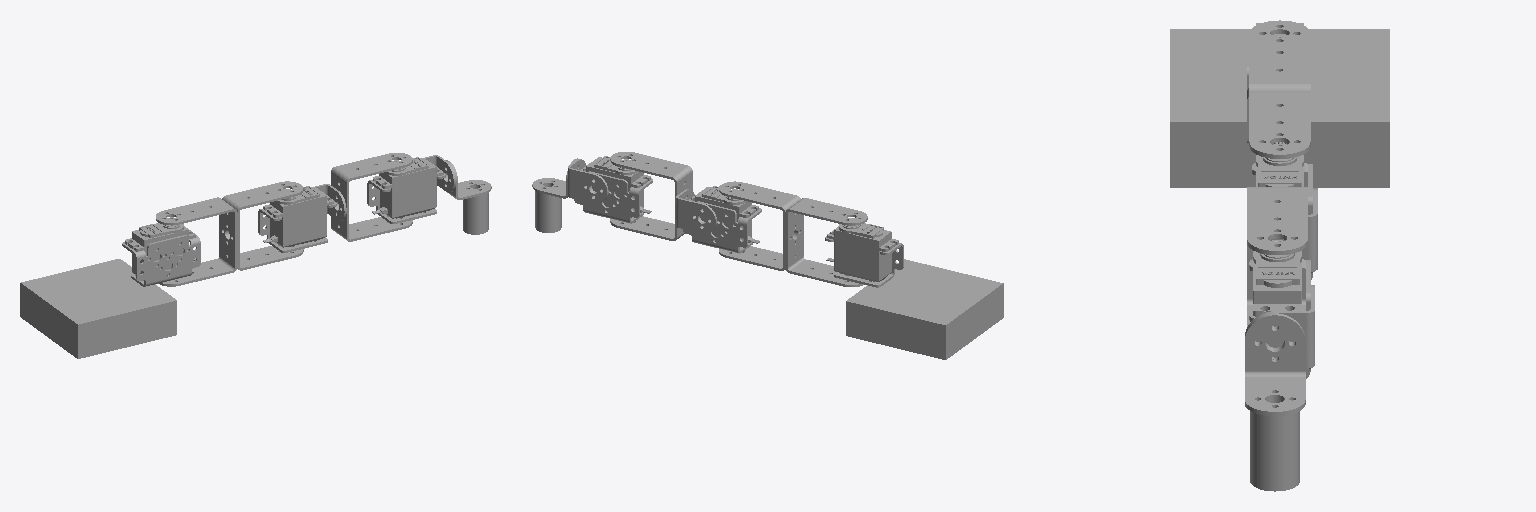
URDF robot description (il_three_dof_servo_arm_urdf_compatible):
<?xml version="1.0" ?>
<!-- =================================================================================== -->
<!-- |    This document was autogenerated by xacro from /home/ifaz/ros_proj_noetic/Imitation_learn_3dof/src/il_three_dof_servo_arm_urdf_compatible_description/urdf/il_three_dof_servo_arm_urdf_compatible.xacro | -->
<!-- |    EDITING THIS FILE BY HAND IS NOT RECOMMENDED                                 | -->
<!-- =================================================================================== -->
<robot name="il_three_dof_servo_arm_urdf_compatible">

    <material name="silver">
        <color rgba="0.700 0.700 0.700 1.000" />
    </material>
    <transmission name="joint_1_tran">
        <type>transmission_interface/SimpleTransmission</type>
        <joint name="joint_1">
            <hardwareInterface>hardware_interface/PositionJointInterface</hardwareInterface>
        </joint>
        <actuator name="joint_1_actr">
            <hardwareInterface>hardware_interface/PositionJointInterface</hardwareInterface>
            <mechanicalReduction>1</mechanicalReduction>
        </actuator>
    </transmission>
    <transmission name="joint_2_tran">
        <type>transmission_interface/SimpleTransmission</type>
        <joint name="joint_2">
            <hardwareInterface>hardware_interface/PositionJointInterface</hardwareInterface>
        </joint>
        <actuator name="joint_2_actr">
            <hardwareInterface>hardware_interface/PositionJointInterface</hardwareInterface>
            <mechanicalReduction>1</mechanicalReduction>
        </actuator>
    </transmission>
    <transmission name="joint_3_tran">
        <type>transmission_interface/SimpleTransmission</type>
        <joint name="joint_3">
            <hardwareInterface>hardware_interface/PositionJointInterface</hardwareInterface>
        </joint>
        <actuator name="joint_3_actr">
            <hardwareInterface>hardware_interface/PositionJointInterface</hardwareInterface>
            <mechanicalReduction>1</mechanicalReduction>
        </actuator>
    </transmission>
    <!--<gazebo>
        <plugin filename="libgazebo_ros_control.so" name="control" />
        <plugin name="gazebo_ros_control" filename="libgazebo_ros_control.so">
            <robotNamespace>/</robotNamespace>
        </plugin>
    </gazebo> -->
    <gazebo>
        <plugin filename="libgazebo_ros_control.so" name="gazebo_ros_control">
        </plugin>
    </gazebo>
    
    
        <!-- Fix the robot to the world-->
    <link name="world" />
    <joint name="fixed" type="fixed">
        <parent link="world" />
        <child link="base_link" />
    </joint>
    <gazebo reference="base_link">
        <material>Gazebo/Silver</material>
        <mu1>0.2</mu1>
        <mu2>0.2</mu2>
        <selfCollide>true</selfCollide>
        <gravity>true</gravity>
    </gazebo>
    <gazebo reference="link_1_1_1">
        <material>Gazebo/Silver</material>
        <mu1>0.02</mu1>
        <mu2>0.02</mu2>
        <selfCollide>true</selfCollide>
    </gazebo>
    <gazebo reference="link_1_2_1">
        <material>Gazebo/Black</material>
        <mu1>0.2</mu1>
        <mu2>0.2</mu2>
        <selfCollide>true</selfCollide>
    </gazebo>
    <gazebo reference="link_1_3_1">
        <material>Gazebo/Black</material>
        <mu1>0.2</mu1>
        <mu2>0.2</mu2>
        <selfCollide>true</selfCollide>
    </gazebo>
    <gazebo reference="link_2_1_1">
        <material>Gazebo/Silver</material>
        <mu1>0.2</mu1>
        <mu2>0.2</mu2>
        <selfCollide>true</selfCollide>
    </gazebo>
    <gazebo reference="link_2_2_1">
        <material>Gazebo/Silver</material>
        <mu1>0.2</mu1>
        <mu2>0.2</mu2>
        <selfCollide>true</selfCollide>
    </gazebo>
    <gazebo reference="link_2_3_1">
        <material>Gazebo/Black</material>
        <mu1>0.2</mu1>
        <mu2>0.2</mu2>
        <selfCollide>true</selfCollide>
    </gazebo>
    <gazebo reference="link_3_1_1">
        <material>Gazebo/Silver</material>
        <mu1>0.2</mu1>
        <mu2>0.2</mu2>
        <selfCollide>true</selfCollide>
    </gazebo>
    <gazebo reference="link_3_2_1">
        <material>Gazebo/Silver</material>
        <mu1>0.2</mu1>
        <mu2>0.2</mu2>
        <selfCollide>true</selfCollide>
    </gazebo>
    <gazebo reference="link_4_1_1">
        <material>Gazebo/Black</material>
        <mu1>0.2</mu1>
        <mu2>0.2</mu2>
        <selfCollide>true</selfCollide>
    </gazebo>
    <gazebo reference="ee_1">
        <material>Gazebo/Black</material>
        <mu1>0.2</mu1>
        <mu2>0.2</mu2>
        <selfCollide>true</selfCollide>
    </gazebo>
    <link name="base_link">
        <inertial>
            <origin rpy="0 0 0" xyz="0.0 0.0 0.015" />
            <mass value="1.907549999999999" />
            <inertia ixx="0.001431" ixy="0.0" ixz="0.0" iyy="0.001431" iyz="0.0" izz="0.002575" />
        </inertial>
        <visual>
            <origin rpy="0 0 0" xyz="0 0 0" />
            <geometry>
                <mesh filename="package://il_three_dof_servo_arm_urdf_compatible_description/meshes/base_link.stl" scale="0.001 0.001 0.001" />
            </geometry>
            <material name="silver" />
        </visual>
        <collision>
            <origin rpy="0 0 0" xyz="0 0 0" />
            <geometry>
                <mesh filename="package://il_three_dof_servo_arm_urdf_compatible_description/meshes/base_link.stl" scale="0.001 0.001 0.001" />
            </geometry>
        </collision>
    </link>
    <link name="link_1_1_1">
        <inertial>
            <origin rpy="0 0 0" xyz="0.010722263946288085 -0.0010298469529679576 0.02155785221673978" />
            <mass value="0.10446533796903502" />
            <inertia ixx="1.9e-05" ixy="-0.0" ixz="-0.0" iyy="3.1e-05" iyz="-0.0" izz="2.1e-05" />
        </inertial>
        <visual>
            <origin rpy="0 0 0" xyz="-0.045 -0.0 -0.03" />
            <geometry>
                <mesh filename="package://il_three_dof_servo_arm_urdf_compatible_description/meshes/link_1_1_1.stl" scale="0.001 0.001 0.001" />
            </geometry>
            <material name="silver" />
        </visual>
        <collision>
            <origin rpy="0 0 0" xyz="-0.045 -0.0 -0.03" />
            <geometry>
                <mesh filename="package://il_three_dof_servo_arm_urdf_compatible_description/meshes/link_1_1_1.stl" scale="0.001 0.001 0.001" />
            </geometry>
        </collision>
    </link>
    <link name="link_1_2_1">
        <inertial>
            <origin rpy="0 0 0" xyz="0.03039981873219752 -1.3654025610418787e-14 -0.02549999999998632" />
            <mass value="0.022671389167279683" />
            <inertia ixx="1.4e-05" ixy="-0.0" ixz="-0.0" iyy="2.2e-05" iyz="0.0" izz="1e-05" />
        </inertial>
        <visual>
            <origin rpy="0 0 0" xyz="-0.06575 -0.0 -0.0776" />
            <geometry>
                <mesh filename="package://il_three_dof_servo_arm_urdf_compatible_description/meshes/link_1_2_1.stl" scale="0.001 0.001 0.001" />
            </geometry>
            <material name="silver" />
        </visual>
        <collision>
            <origin rpy="0 0 0" xyz="-0.06575 -0.0 -0.0776" />
            <geometry>
                <mesh filename="package://il_three_dof_servo_arm_urdf_compatible_description/meshes/link_1_2_1.stl" scale="0.001 0.001 0.001" />
            </geometry>
        </collision>
    </link>
    <link name="link_1_3_1">
        <inertial>
            <origin rpy="0 0 0" xyz="0.022100181267802443 -1.3645906135543732e-14 -1.3704315460216776e-14" />
            <mass value="0.022671389167279683" />
            <inertia ixx="1.4e-05" ixy="0.0" ixz="-0.0" iyy="2.2e-05" iyz="-0.0" izz="1e-05" />
        </inertial>
        <visual>
            <origin rpy="0 0 0" xyz="-0.11825 -0.0 -0.0521" />
            <geometry>
                <mesh filename="package://il_three_dof_servo_arm_urdf_compatible_description/meshes/link_1_3_1.stl" scale="0.001 0.001 0.001" />
            </geometry>
            <material name="silver" />
        </visual>
        <collision>
            <origin rpy="0 0 0" xyz="-0.11825 -0.0 -0.0521" />
            <geometry>
                <mesh filename="package://il_three_dof_servo_arm_urdf_compatible_description/meshes/link_1_3_1.stl" scale="0.001 0.001 0.001" />
            </geometry>
        </collision>
    </link>
    <link name="link_2_1_1">
        <inertial>
            <origin rpy="0 0 0" xyz="0.010027736053711822 0.001029846952968002 -0.02604214778326025" />
            <mass value="0.10446533796903502" />
            <inertia ixx="1.9e-05" ixy="-0.0" ixz="0.0" iyy="3.1e-05" iyz="0.0" izz="2.1e-05" />
        </inertial>
        <visual>
            <origin rpy="0 0 0" xyz="-0.17075 -0.0 -0.0776" />
            <geometry>
                <mesh filename="package://il_three_dof_servo_arm_urdf_compatible_description/meshes/link_2_1_1.stl" scale="0.001 0.001 0.001" />
            </geometry>
            <material name="silver" />
        </visual>
        <collision>
            <origin rpy="0 0 0" xyz="-0.17075 -0.0 -0.0776" />
            <geometry>
                <mesh filename="package://il_three_dof_servo_arm_urdf_compatible_description/meshes/link_2_1_1.stl" scale="0.001 0.001 0.001" />
            </geometry>
        </collision>
    </link>
    <link name="link_2_2_1">
        <inertial>
            <origin rpy="0 0 0" xyz="0.014291543311493432 -0.004352329737747492 -1.9761969838327786e-14" />
            <mass value="0.007218982086139781" />
            <inertia ixx="1e-06" ixy="0.0" ixz="-0.0" iyy="1e-06" iyz="0.0" izz="1e-06" />
        </inertial>
        <visual>
            <origin rpy="0 0 0" xyz="-0.1915 -0.0135 -0.0545" />
            <geometry>
                <mesh filename="package://il_three_dof_servo_arm_urdf_compatible_description/meshes/link_2_2_1.stl" scale="0.001 0.001 0.001" />
            </geometry>
            <material name="silver" />
        </visual>
        <collision>
            <origin rpy="0 0 0" xyz="-0.1915 -0.0135 -0.0545" />
            <geometry>
                <mesh filename="package://il_three_dof_servo_arm_urdf_compatible_description/meshes/link_2_2_1.stl" scale="0.001 0.001 0.001" />
            </geometry>
        </collision>
    </link>
    <link name="link_2_3_1">
        <inertial>
            <origin rpy="0 0 0" xyz="0.02210018126780225 -1.3647720106813033e-14 -1.3739009929736312e-14" />
            <mass value="0.022671389167279683" />
            <inertia ixx="1.4e-05" ixy="0.0" ixz="-0.0" iyy="2.2e-05" iyz="0.0" izz="1e-05" />
        </inertial>
        <visual>
            <origin rpy="0 0 0" xyz="-0.2165 0.001 -0.0545" />
            <geometry>
                <mesh filename="package://il_three_dof_servo_arm_urdf_compatible_description/meshes/link_2_3_1.stl" scale="0.001 0.001 0.001" />
            </geometry>
            <material name="silver" />
        </visual>
        <collision>
            <origin rpy="0 0 0" xyz="-0.2165 0.001 -0.0545" />
            <geometry>
                <mesh filename="package://il_three_dof_servo_arm_urdf_compatible_description/meshes/link_2_3_1.stl" scale="0.001 0.001 0.001" />
            </geometry>
        </collision>
    </link>
    <link name="link_3_1_1">
        <inertial>
            <origin rpy="0 0 0" xyz="0.010027736053711711 0.0010298469529679821 -0.026042147783260285" />
            <mass value="0.10446533796903502" />
            <inertia ixx="1.9e-05" ixy="-0.0" ixz="0.0" iyy="3.1e-05" iyz="0.0" izz="2.1e-05" />
        </inertial>
        <visual>
            <origin rpy="0 0 0" xyz="-0.269 0.001 -0.08" />
            <geometry>
                <mesh filename="package://il_three_dof_servo_arm_urdf_compatible_description/meshes/link_3_1_1.stl" scale="0.001 0.001 0.001" />
            </geometry>
            <material name="silver" />
        </visual>
        <collision>
            <origin rpy="0 0 0" xyz="-0.269 0.001 -0.08" />
            <geometry>
                <mesh filename="package://il_three_dof_servo_arm_urdf_compatible_description/meshes/link_3_1_1.stl" scale="0.001 0.001 0.001" />
            </geometry>
        </collision>
    </link>
    <link name="link_3_2_1">
        <inertial>
            <origin rpy="0 0 0" xyz="0.014291543311493349 -0.004352329737747514 -1.9782786520039508e-14" />
            <mass value="0.007218982086139781" />
            <inertia ixx="1e-06" ixy="0.0" ixz="-0.0" iyy="1e-06" iyz="0.0" izz="1e-06" />
        </inertial>
        <visual>
            <origin rpy="0 0 0" xyz="-0.28975 -0.0125 -0.0569" />
            <geometry>
                <mesh filename="package://il_three_dof_servo_arm_urdf_compatible_description/meshes/link_3_2_1.stl" scale="0.001 0.001 0.001" />
            </geometry>
            <material name="silver" />
        </visual>
        <collision>
            <origin rpy="0 0 0" xyz="-0.28975 -0.0125 -0.0569" />
            <geometry>
                <mesh filename="package://il_three_dof_servo_arm_urdf_compatible_description/meshes/link_3_2_1.stl" scale="0.001 0.001 0.001" />
            </geometry>
        </collision>
    </link>
    <link name="link_4_1_1">
        <inertial>
            <origin rpy="0 0 0" xyz="0.01070845668850634 1.976023511485181e-14 -0.010147670262252488" />
            <mass value="0.007218982086139781" />
            <inertia ixx="1e-06" ixy="-0.0" ixz="0.0" iyy="1e-06" iyz="0.0" izz="1e-06" />
        </inertial>
        <visual>
            <origin rpy="0 0 0" xyz="-0.31475 0.002 -0.0569" />
            <geometry>
                <mesh filename="package://il_three_dof_servo_arm_urdf_compatible_description/meshes/link_4_1_1.stl" scale="0.001 0.001 0.001" />
            </geometry>
            <material name="silver" />
        </visual>
        <collision>
            <origin rpy="0 0 0" xyz="-0.31475 0.002 -0.0569" />
            <geometry>
                <mesh filename="package://il_three_dof_servo_arm_urdf_compatible_description/meshes/link_4_1_1.stl" scale="0.001 0.001 0.001" />
            </geometry>
        </collision>
    </link>
    <link name="ee_1">
        <inertial>
            <origin rpy="0 0 0" xyz="1.2045919817182948e-13 9.540979117872439e-18 -0.017499999999999925" />
            <mass value="0.06824310014657918" />
            <inertia ixx="9e-06" ixy="0.0" ixz="-0.0" iyy="9e-06" iyz="0.0" izz="4e-06" />
        </inertial>
        <visual>
            <origin rpy="0 0 0" xyz="-0.33975 0.002 -0.0404" />
            <geometry>
                <mesh filename="package://il_three_dof_servo_arm_urdf_compatible_description/meshes/ee_1.stl" scale="0.001 0.001 0.001" />
            </geometry>
            <material name="silver" />
        </visual>
        <collision>
            <origin rpy="0 0 0" xyz="-0.33975 0.002 -0.0404" />
            <geometry>
                <mesh filename="package://il_three_dof_servo_arm_urdf_compatible_description/meshes/ee_1.stl" scale="0.001 0.001 0.001" />
            </geometry>
        </collision>
    </link>
    <joint name="Rigid_46" type="fixed">
        <origin rpy="0 0 0" xyz="0.045 0.0 0.03" />
        <parent link="base_link" />
        <child link="link_1_1_1" />
    </joint>
    <joint name="joint_1" type="revolute">
        <origin rpy="0 0 0" xyz="0.02075 0.0 0.0476" />
        <limit effort="1000.0" lower="-1.57" upper="1.57" velocity="1.0" />
        <parent link="link_1_1_1" />
        <child link="link_1_2_1" />
        <axis xyz="-0.0 0.0 -1.0" />
    </joint>
    <joint name="Rigid_48" type="fixed">
        <origin rpy="0 0 0" xyz="0.0525 0.0 -0.0255" />
        <parent link="link_1_2_1" />
        <child link="link_1_3_1" />
    </joint>
    <joint name="joint_2" type="revolute">
        <origin rpy="0 0 0" xyz="0.0525 0.0 0.0255" />
        <limit effort="1000.0" lower="-1.57" upper="1.57" velocity="1.0" />
        <parent link="link_1_3_1" />
        <child link="link_2_1_1" />
        <axis xyz="-0.0 0.0 1.0" />
    </joint>
    <joint name="Rigid_50" type="fixed">
        <origin rpy="0 0 0" xyz="0.02075 0.0135 -0.0231" />
        <parent link="link_2_1_1" />
        <child link="link_2_2_1" />
    </joint>
    <joint name="Rigid_51" type="fixed">
        <origin rpy="0 0 0" xyz="0.025 -0.0145 0.0" />
        <parent link="link_2_2_1" />
        <child link="link_2_3_1" />
    </joint>
    <joint name="joint_3" type="revolute">
        <origin rpy="0 0 0" xyz="0.0525 0.0 0.0255" />
        <limit effort="1000.0" lower="-1.57" upper="1.57" velocity="1.0" />
        <parent link="link_2_3_1" />
        <child link="link_3_1_1" />
        <axis xyz="-0.0 -0.0 1.0" />
    </joint>
    <joint name="Rigid_53" type="fixed">
        <origin rpy="0 0 0" xyz="0.02075 0.0135 -0.0231" />
        <parent link="link_3_1_1" />
        <child link="link_3_2_1" />
    </joint>
    <joint name="Rigid_55" type="fixed">
        <origin rpy="0 0 0" xyz="0.025 -0.0145 0.0" />
        <parent link="link_3_2_1" />
        <child link="link_4_1_1" />
    </joint>
    <joint name="Rigid_56" type="fixed">
        <origin rpy="0 0 0" xyz="0.025 0.0 -0.0165" />
        <parent link="link_4_1_1" />
        <child link="ee_1" />
    </joint>
</robot>

--- Facts derived from the render (not from the file) ---
Views: 3 orthographic renders of the robot side by side, from view 1: azimuth 30°, elevation 25°; view 2: azimuth 150°, elevation 25°; view 3: azimuth 270°, elevation 25°.
Model il_three_dof_servo_arm_urdf_compatible with 12 links and 11 joints (3 revolute, 8 fixed), rooted at world, posed all joints at 0.
Visible links, largest first — view 1: base_link, link_1_1_1, link_3_1_1, link_2_1_1, link_1_2_1, link_2_3_1, link_1_3_1, ee_1, link_4_1_1; view 2: base_link, link_1_1_1, link_1_2_1, link_3_1_1, link_2_1_1, link_2_3_1, link_1_3_1, link_2_2_1, link_3_2_1, ee_1, link_4_1_1; view 3: base_link, link_4_1_1, link_2_3_1, link_1_3_1, link_1_2_1, ee_1, link_3_1_1, link_2_1_1, link_3_2_1, link_2_2_1.
Link boxes in pixels (x1,y1,x2,y2): base_link: (20,259,176,358); link_1_1_1: (122,217,200,286); link_3_1_1: (367,157,445,223); link_2_1_1: (258,186,336,252); link_1_2_1: (156,197,237,286); link_2_3_1: (331,153,412,241); link_1_3_1: (222,181,303,270); ee_1: (463,187,488,234); link_4_1_1: (445,160,491,199); base_link: (846,259,1003,359); link_1_1_1: (825,218,903,287); link_1_2_1: (785,198,867,286); link_3_1_1: (574,156,652,223); link_2_1_1: (683,186,761,253); link_2_3_1: (610,152,692,240); link_1_3_1: (719,181,800,270); link_2_2_1: (676,189,716,233); link_3_2_1: (568,159,608,203); ee_1: (535,185,561,232); link_4_1_1: (532,158,577,198); base_link: (1170,29,1389,187); link_4_1_1: (1245,313,1305,415); link_2_3_1: (1247,187,1307,326); link_1_3_1: (1249,91,1310,186); link_1_2_1: (1249,20,1310,90); ee_1: (1250,399,1299,491); link_3_1_1: (1249,240,1310,378); link_2_1_1: (1252,144,1312,279); link_3_2_1: (1245,285,1314,368); link_2_2_1: (1308,188,1317,271).
Size in the robot's own frame: 0.3972 by 0.09 by 0.082 metres.
11 mesh visuals loaded from 11 distinct referenced files (11 binary STL).
